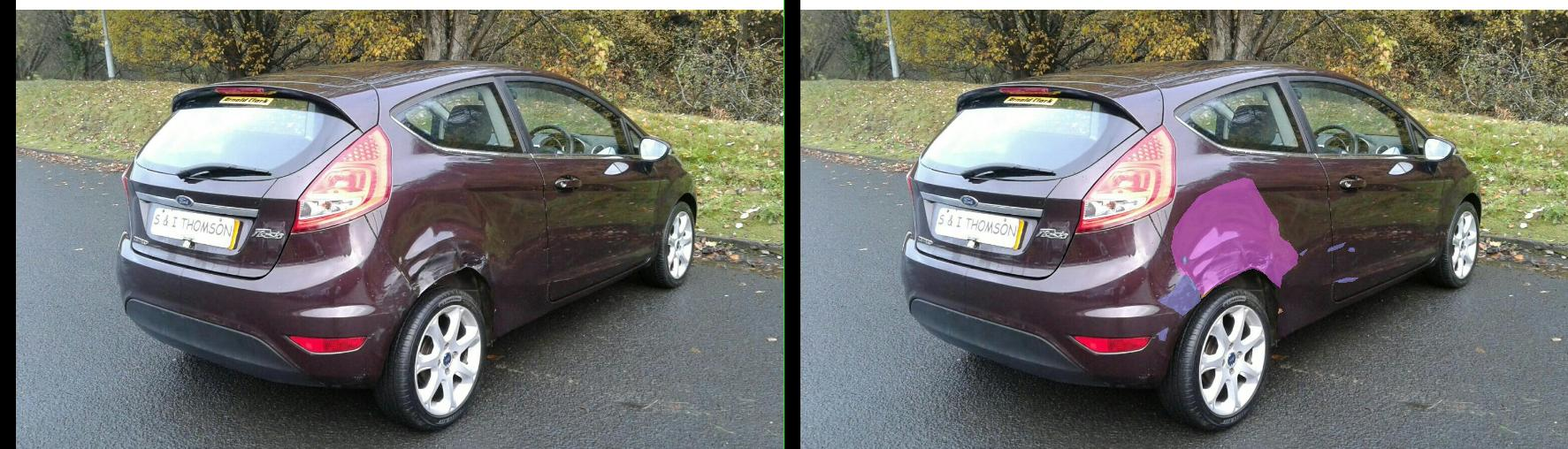Dent: (773, 178, 1026, 294)
Paint chip: (834, 264, 936, 298), (933, 255, 979, 274), (988, 308, 996, 313)
Scratch: (745, 275, 832, 316), (1087, 242, 1122, 251), (747, 327, 766, 340), (1101, 278, 1147, 282), (796, 255, 811, 263), (1030, 248, 1046, 255), (1127, 247, 1140, 251)
